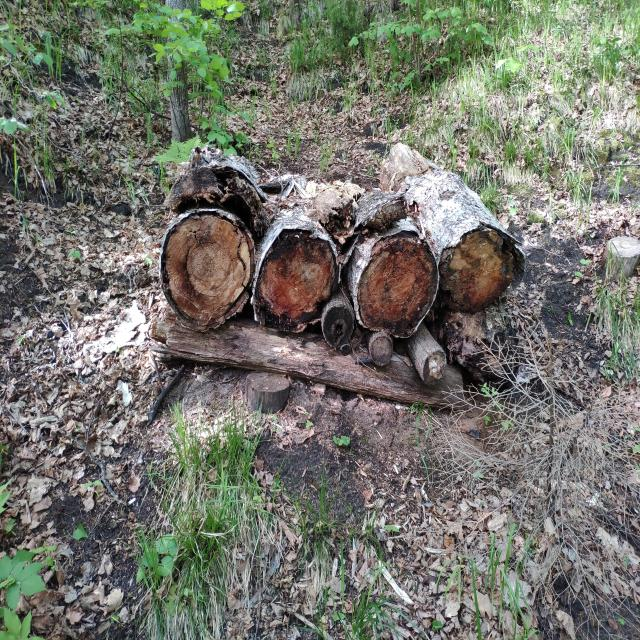restos de madeira: (156, 312, 465, 411), (163, 146, 254, 329), (337, 184, 441, 338), (251, 175, 343, 334), (381, 137, 498, 257), (431, 234, 520, 316), (240, 369, 293, 412), (413, 327, 446, 385), (604, 235, 640, 278), (368, 328, 394, 366), (382, 571, 409, 604)
